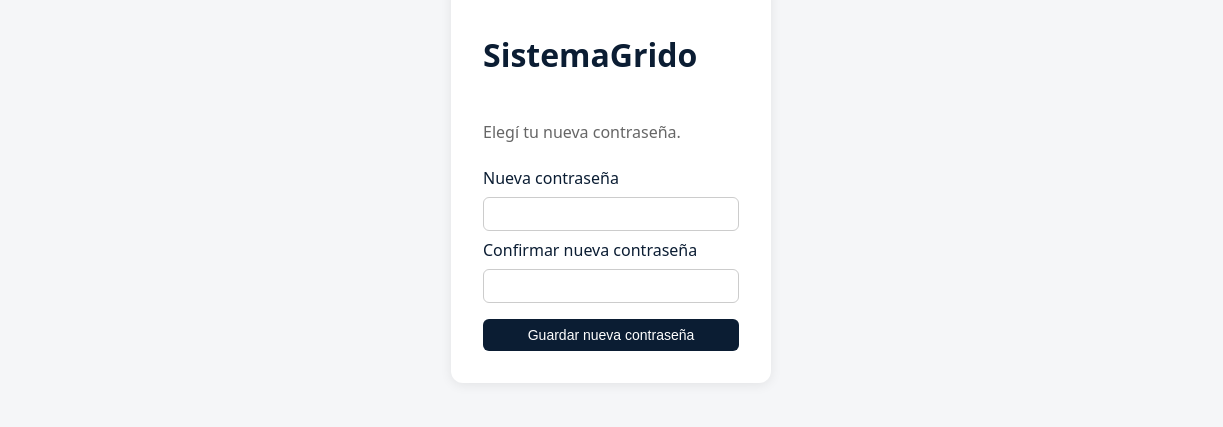
Test: ResetPasswordPage › D) si Supabase falla al actualizar, muestra un mensaje seguro sin exponer detalles del error
This screenshot has width=1223, height=427.
Type "contrasenaSegura1" into the password field labelled "Nueva contraseña".
click(611, 214); type("contrasenaSegura1")  # box [483,197,739,231]
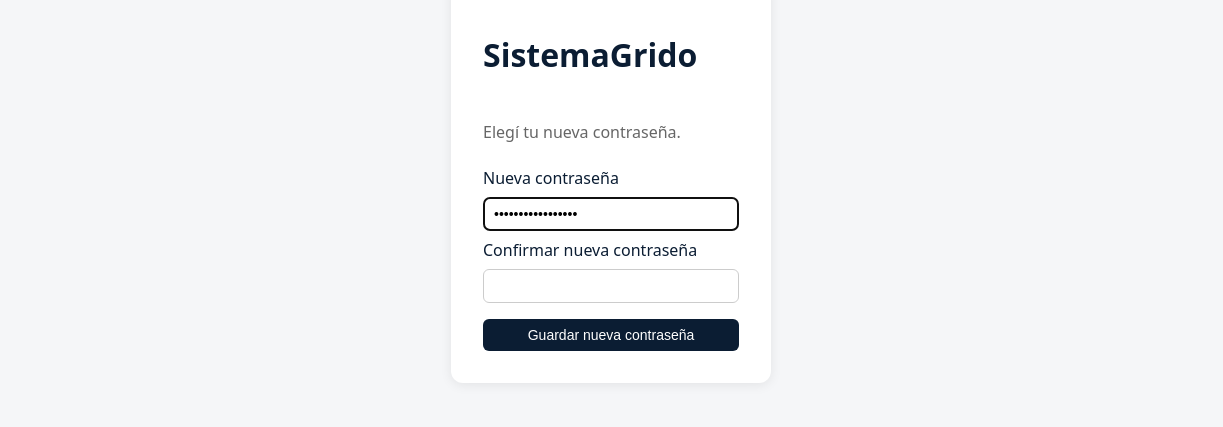
Type "contrasenaSegura1" into the password field labelled "Confirmar nueva contraseña".
click(611, 286); type("contrasenaSegura1")  # box [483,269,739,303]
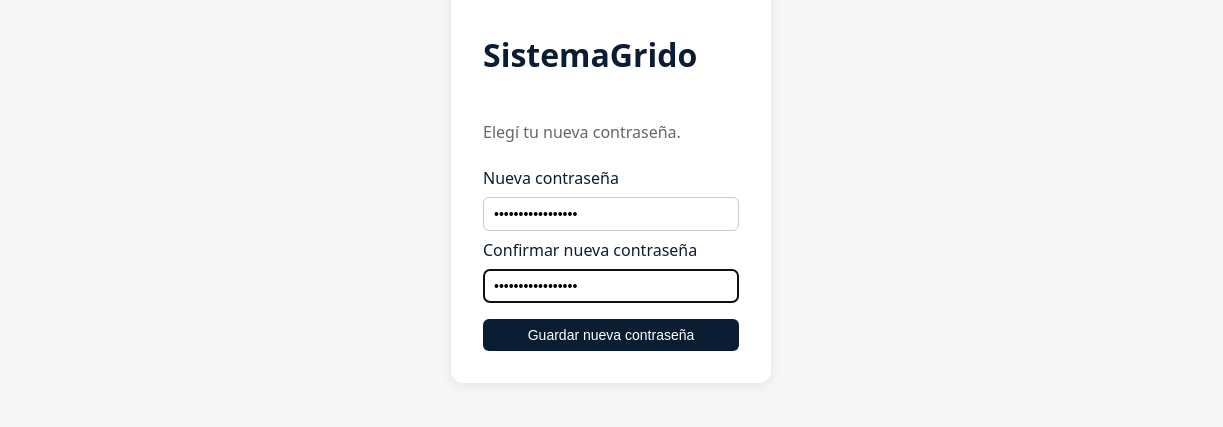
Click the button "Guardar nueva contraseña".
click(611, 335)  # box [483,319,739,351]
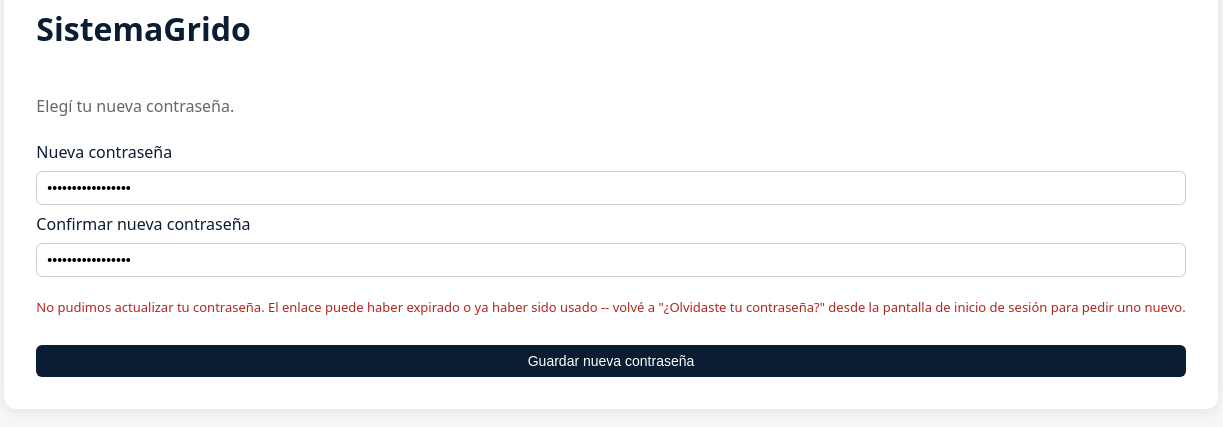
Expected: the message shows "No pudimos actualizar tu contraseña", [36,298,1186,316]
